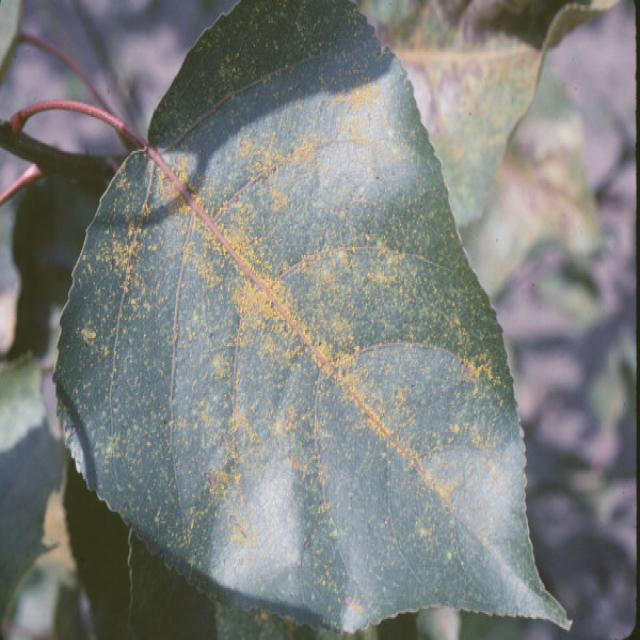leaf_rust: (55, 0, 565, 630)
